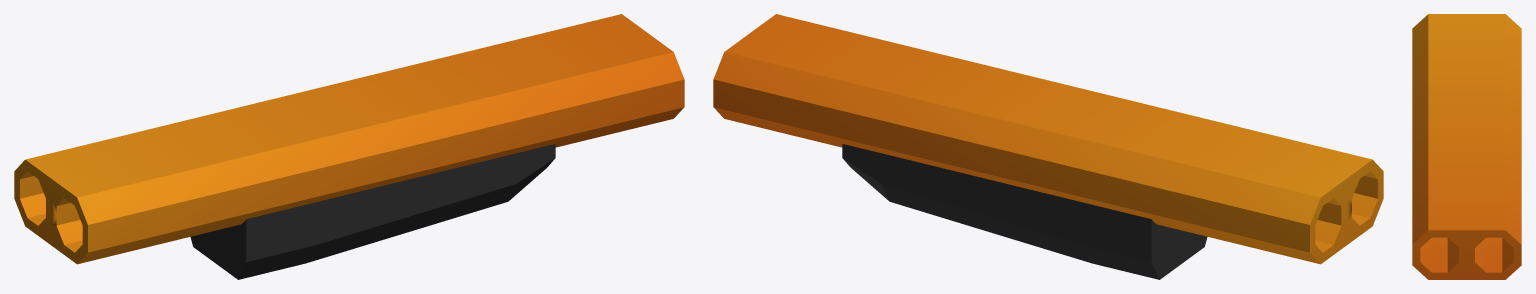
Rendered from Shotgun4_04_2.fbx.
3 views of the same model, side by side, from view 1: azimuth 30°, elevation 25°; view 2: azimuth 150°, elevation 25°; view 3: azimuth 270°, elevation 25° (orthographic). The views are drawn at different scales.
Parts seen in each view (by area): view 1: Shotgun4_04_2; view 2: Shotgun4_04_2; view 3: Shotgun4_04_2.
Boxes of the visible parts, bbox=[...] form: Shotgun4_04_2: bbox=[14, 14, 684, 279]; Shotgun4_04_2: bbox=[713, 14, 1383, 279]; Shotgun4_04_2: bbox=[1412, 14, 1521, 279].
Bounding box in the file's own units: 0.2847 × 0.057 × 0.0608.
